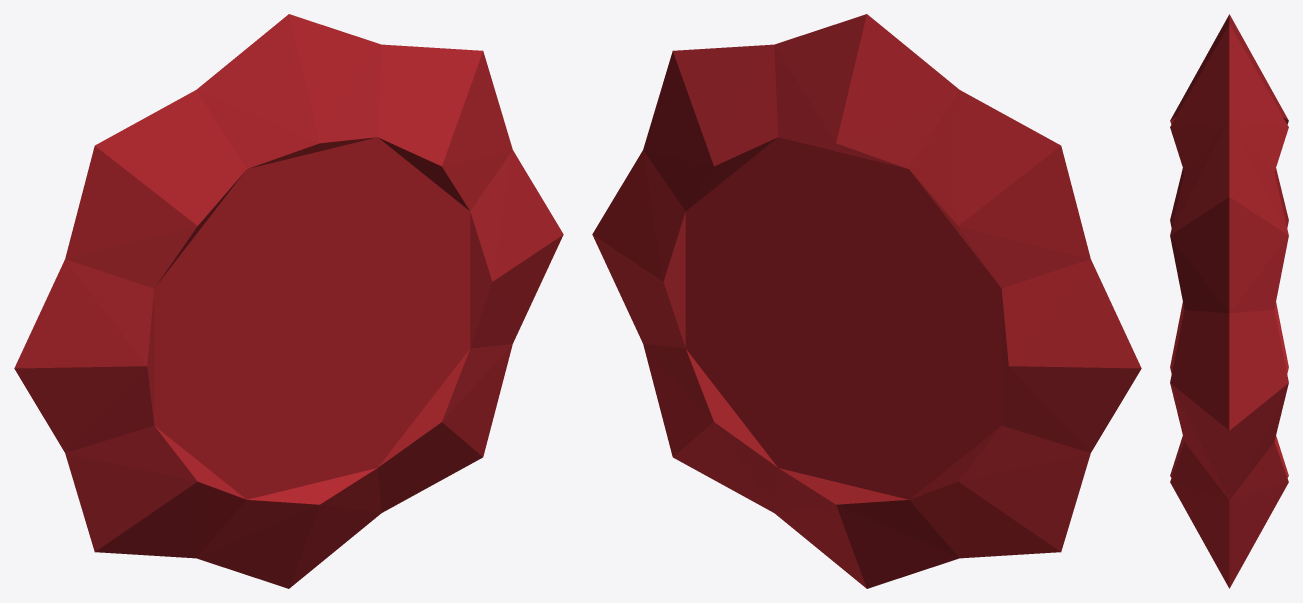
File: thystame.glb
The picture shows the model from 3 angles, left to right: view 1: azimuth 30°, elevation 25°; view 2: azimuth 150°, elevation 25°; view 3: azimuth 270°, elevation 25°; orthographic projection. The views are drawn at different scales.
Visible parts, largest first — view 1: Jewel_02_Circle; view 2: Jewel_02_Circle; view 3: Jewel_02_Circle.
Boxes of the visible parts, x1,y1,x2,y2 form: Jewel_02_Circle: (14,14,563,588); Jewel_02_Circle: (592,14,1141,588); Jewel_02_Circle: (1170,14,1288,588).
Bounding box in the file's own units: 5.75 × 5.75 × 1.12.
